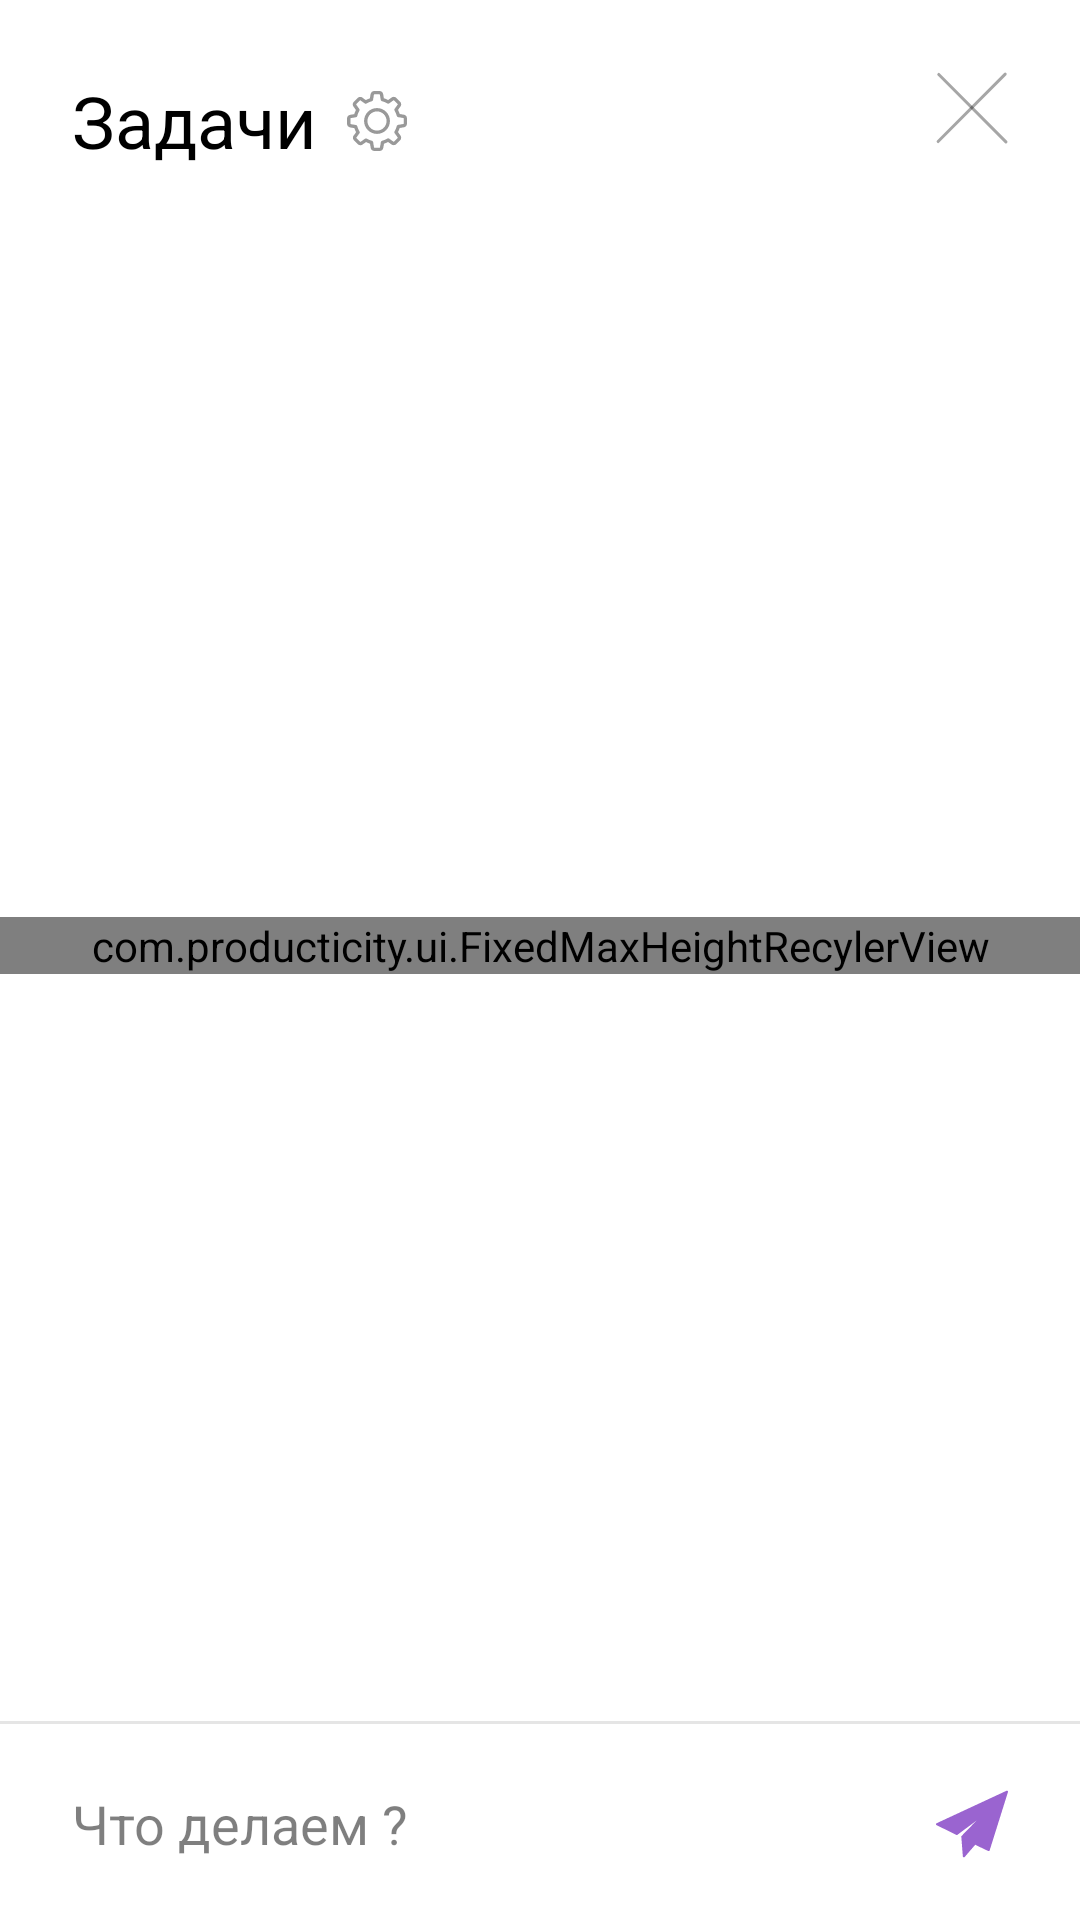

Screen size 1080w x 1920h. Icon name, then its center in pixels as [x,y]:
close: [972,108]
send: [972,1824]
setting transperent: [377,121]
